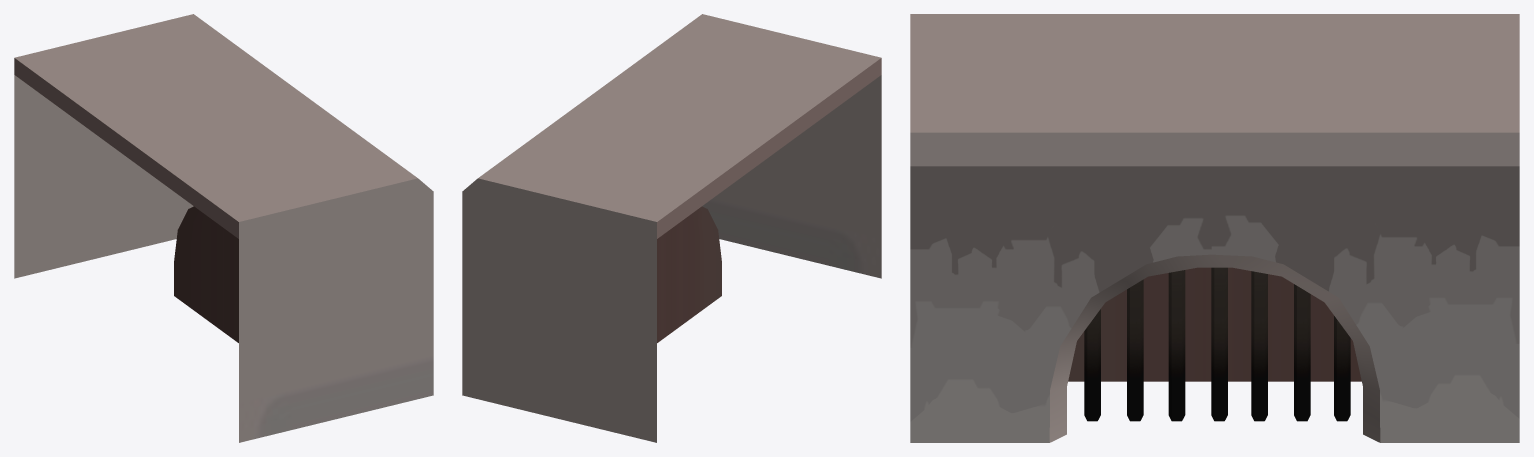
Rendered from SM_Building_Sewer_01.fbx.
The picture shows the model from 3 angles, left to right: view 1: azimuth 30°, elevation 25°; view 2: azimuth 150°, elevation 25°; view 3: azimuth 270°, elevation 25°; orthographic projection. The views are drawn at different scales.
Visible parts, largest first — view 1: SM_Building_Sewer_01; view 2: SM_Building_Sewer_01; view 3: SM_Building_Sewer_01.
Part boxes in pixels (left/top/right/bottom): SM_Building_Sewer_01: left=14, top=14, right=433, bottom=442; SM_Building_Sewer_01: left=462, top=14, right=881, bottom=442; SM_Building_Sewer_01: left=910, top=14, right=1519, bottom=442.
Bounding box in the file's own units: 2 × 2.17 × 3.99.
